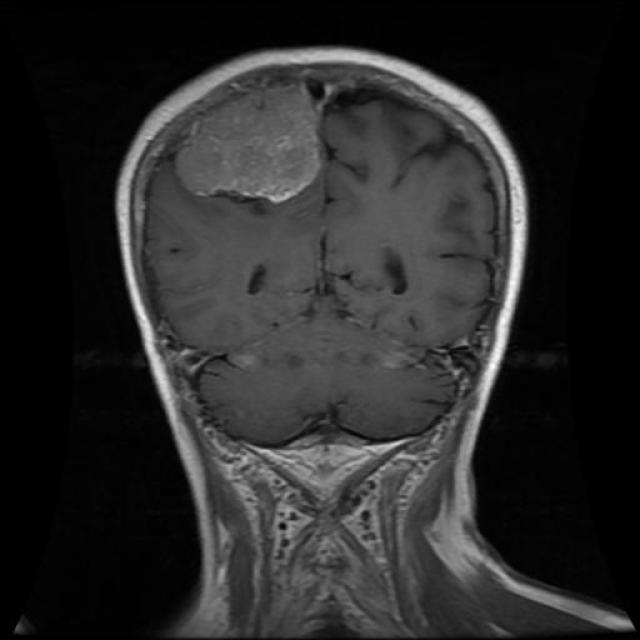meningioma: (175, 76, 324, 205)
